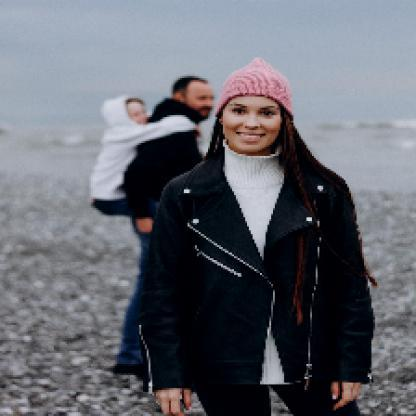child: (92, 95, 200, 218)
